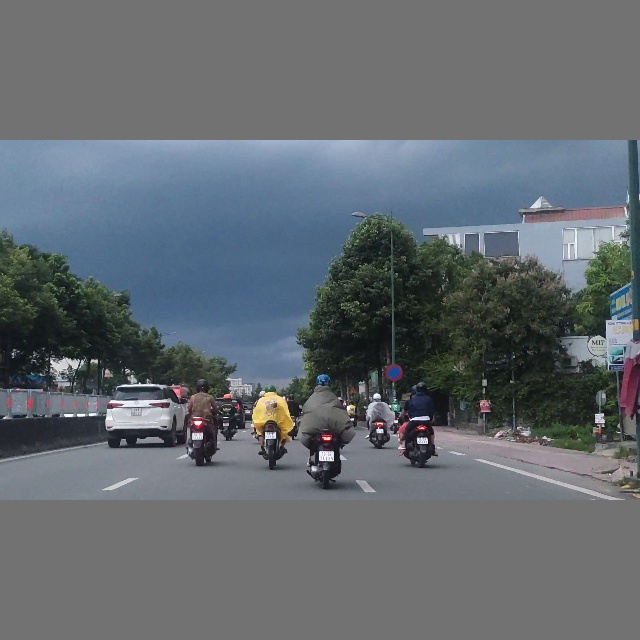P.131a: (385, 364, 403, 381)
W.201a: (349, 386, 357, 394)
